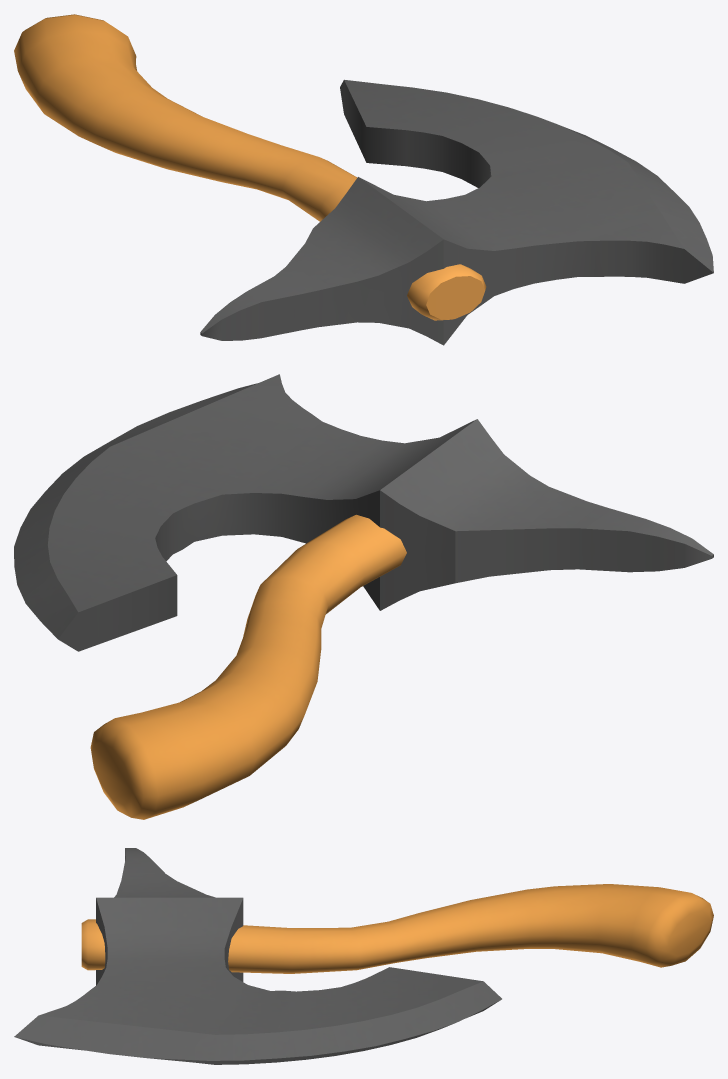
The model's file is SM_Axe.fbx.
3 renders of one model, top to bottom at view 1: azimuth 30°, elevation 25°; view 2: azimuth 150°, elevation 25°; view 3: azimuth 270°, elevation 25°, orthographic. The views are drawn at different scales.
Parts seen in each view (by area): view 1: Axe; view 2: Axe; view 3: Axe.
Boxes of the visible parts, <box> form: Axe: <box>14,14,713,345</box>; Axe: <box>14,374,713,819</box>; Axe: <box>14,848,713,1064</box>.
Size of the model in its own units: 42.57 by 8.57 by 59.46.
